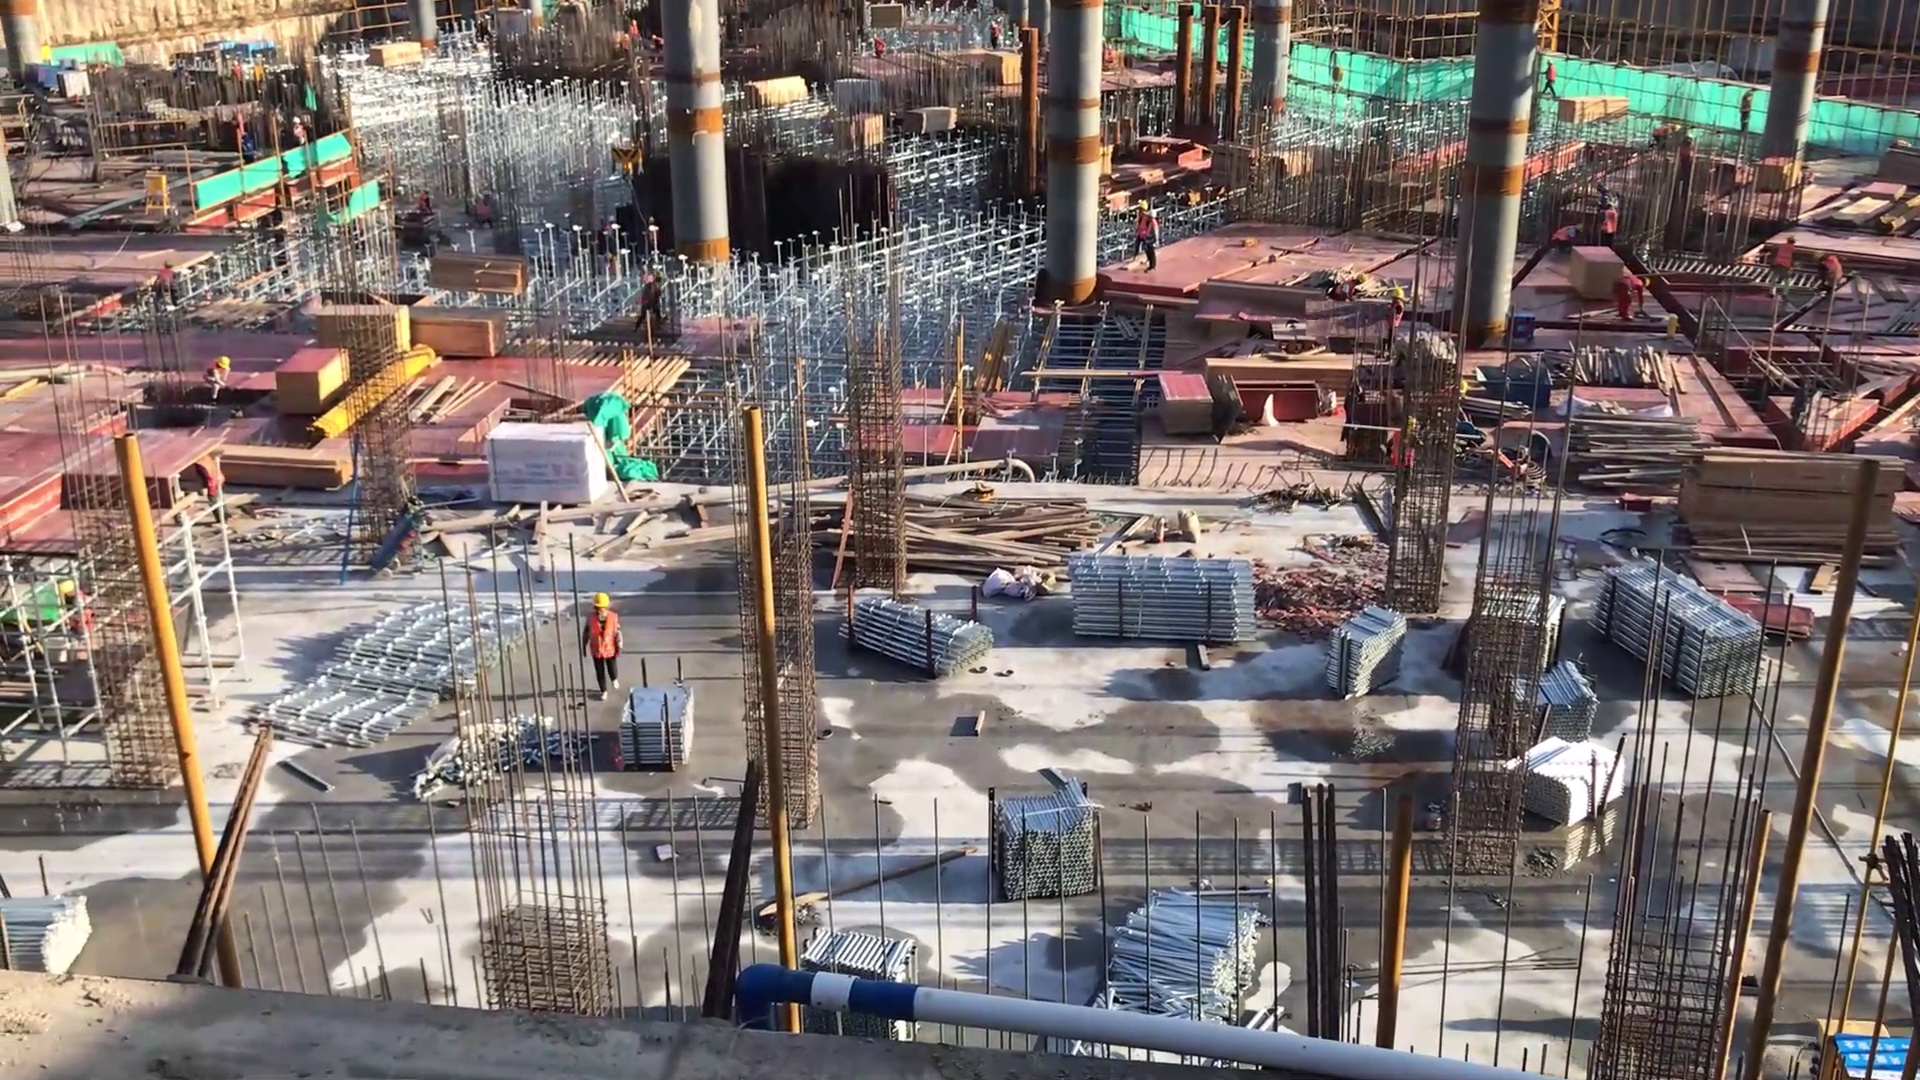board: (1700, 586, 1818, 654), (318, 300, 408, 378), (273, 341, 352, 420), (1155, 369, 1220, 443)
ebox: (141, 164, 176, 231)
helmet: (589, 589, 613, 612), (213, 355, 233, 371), (1390, 286, 1408, 301), (162, 256, 176, 271), (1146, 208, 1160, 222), (1812, 249, 1825, 263), (1357, 271, 1368, 286), (1644, 274, 1651, 293)
hook: (1476, 370, 1559, 412)
person: (584, 590, 626, 699), (1385, 416, 1425, 512), (202, 355, 241, 415), (1810, 245, 1847, 304), (1608, 276, 1651, 324), (1770, 232, 1800, 299), (1384, 284, 1409, 365), (1545, 218, 1587, 262), (1732, 83, 1765, 139), (150, 258, 180, 318), (1328, 272, 1370, 310), (640, 273, 665, 334), (1145, 206, 1166, 276), (1650, 119, 1682, 160), (1537, 55, 1563, 104), (1599, 200, 1623, 252), (1134, 200, 1150, 267), (288, 116, 310, 150), (240, 130, 258, 167), (419, 184, 434, 220), (989, 20, 999, 55), (875, 32, 885, 62)
scaffold: (1604, 557, 1770, 705), (1068, 549, 1265, 659), (981, 781, 1113, 903), (796, 928, 936, 1040), (1478, 667, 1611, 761), (845, 601, 998, 680), (1324, 602, 1417, 710), (1, 887, 100, 980)
vest: (584, 611, 624, 666), (1773, 242, 1800, 277), (1824, 254, 1845, 293), (1329, 278, 1359, 303), (1385, 300, 1407, 334), (1145, 218, 1164, 253), (1603, 205, 1621, 238), (1551, 224, 1575, 246)
wood: (1684, 445, 1907, 566), (901, 496, 1108, 573), (1564, 412, 1705, 489), (1198, 359, 1363, 404), (223, 443, 352, 491), (406, 307, 510, 354), (424, 254, 525, 295), (897, 102, 966, 141), (740, 73, 808, 112), (1554, 93, 1629, 129), (366, 37, 426, 71)
